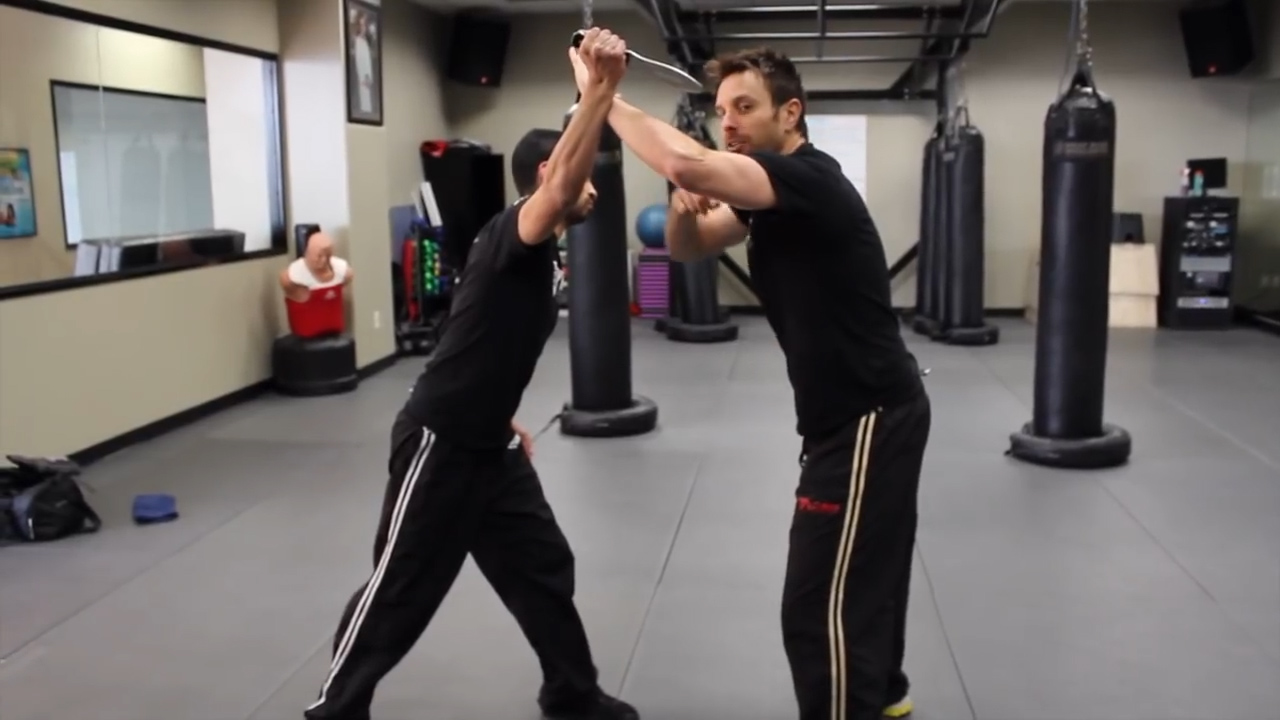knife: (569, 21, 711, 101)
